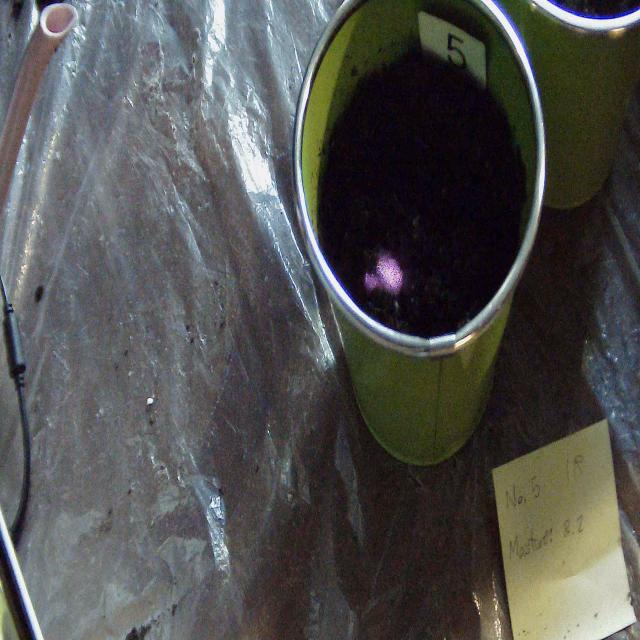soil-moisture-8.2: (364, 252, 402, 296)
